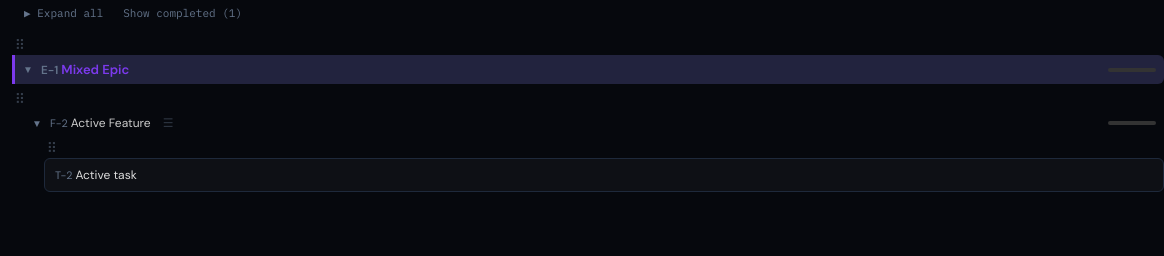
Test: BacklogTree › sorts incomplete features before completed ones when show completed is on
The width and height of the screenshot is (1164, 256).
# Toggle show completed
Click the button "Show completed (1)" at (183, 13), box [119,4,246,22]
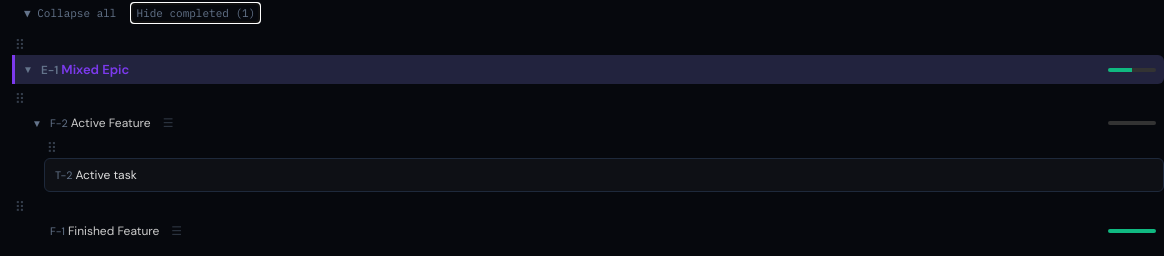
Expected: the text "Active Feature" is shown, [71,115,151,131]
Expected: the text "Finished Feature" is shown, [68,223,159,239]
